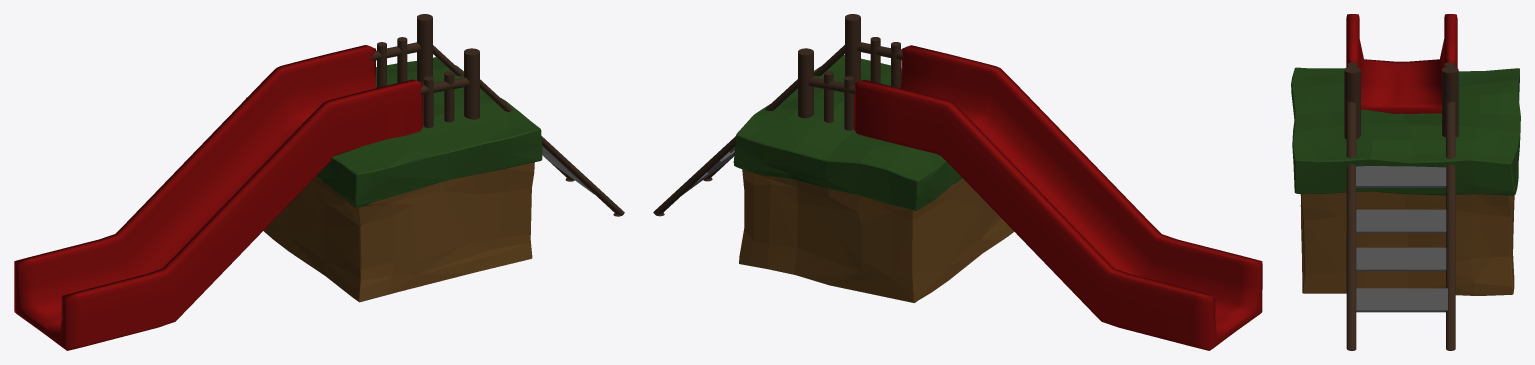
Rendered from tile_slide.gltf.
The picture shows the model from 3 angles, left to right: view 1: azimuth 30°, elevation 25°; view 2: azimuth 150°, elevation 25°; view 3: azimuth 270°, elevation 25°; orthographic projection. The views are drawn at different scales.
Parts seen in each view (by area): view 1: Cylinder.010, hill.002; view 2: Cylinder.010, hill.002; view 3: hill.002, Cylinder.010.
Boxes of the visible parts, x1,y1,x2,y2 form: Cylinder.010: (14, 14, 624, 350); hill.002: (246, 57, 542, 302); Cylinder.010: (653, 14, 1262, 350); hill.002: (733, 55, 1014, 302); hill.002: (1291, 67, 1520, 295); Cylinder.010: (1344, 14, 1458, 350).
Bounding box in the file's own units: 3.17 × 1.08 × 1.09.
